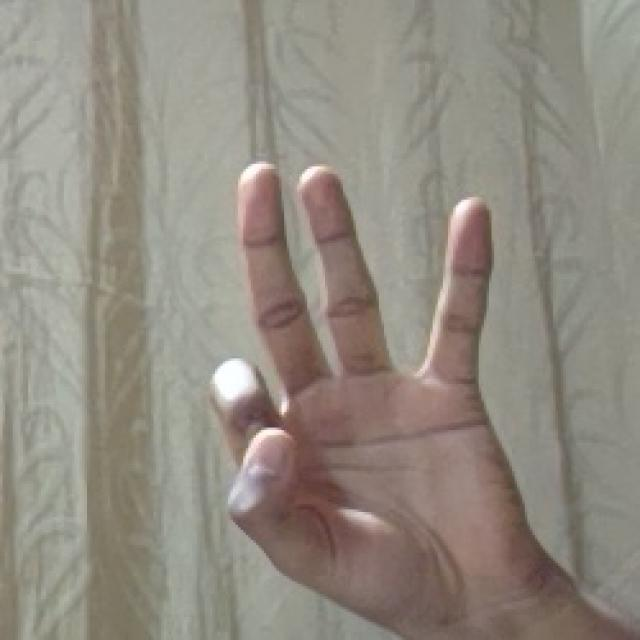Numeric-9: (210, 156, 530, 606)
